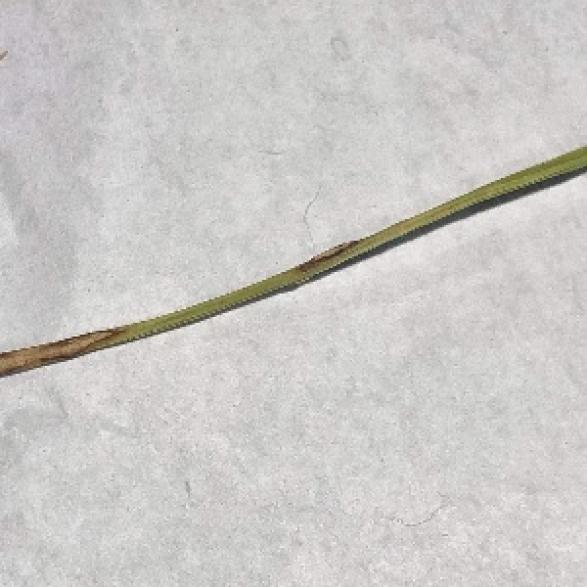Leaf_smut: (288, 229, 380, 293)
